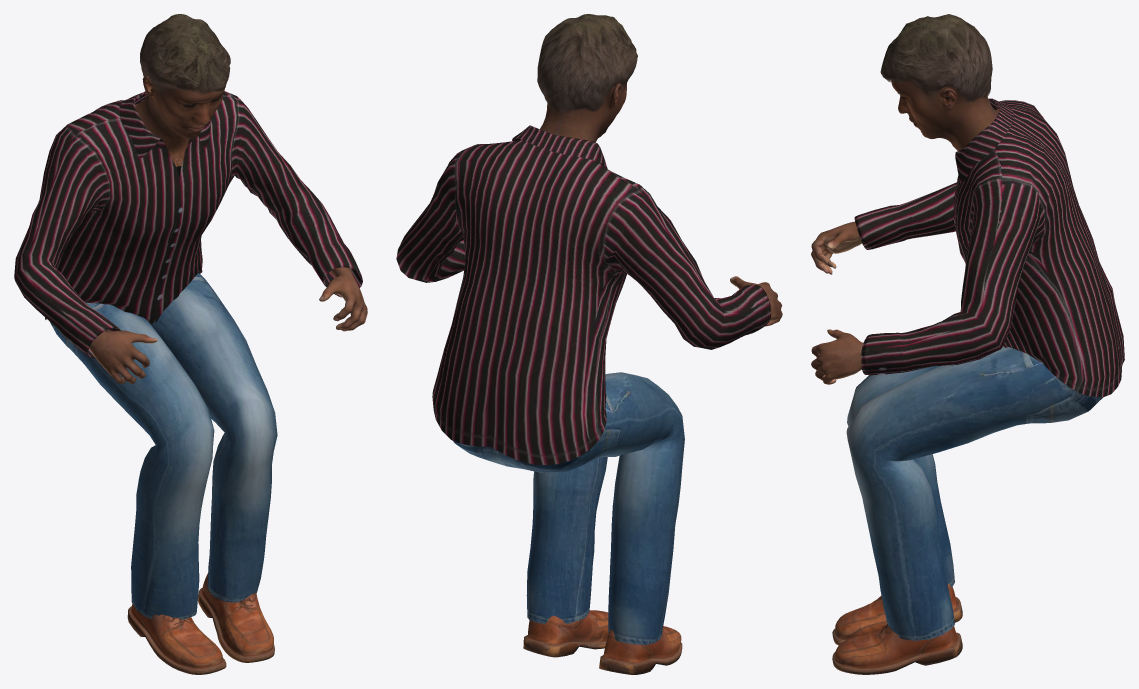
Rendered from uomo-02.glb.
3 views of the same model, side by side, from view 1: azimuth 30°, elevation 25°; view 2: azimuth 150°, elevation 25°; view 3: azimuth 270°, elevation 25° (orthographic). The views are drawn at different scales.
Visible parts, largest first — view 1: Human.male_casualsuit03, Human, Human.shoes01, Human.short02; view 2: Human.male_casualsuit03, Human.short02, Human.shoes01, Human; view 3: Human.male_casualsuit03, Human, Human.short02, Human.shoes01.
Part boxes in pixels (x1=…): Human.male_casualsuit03: x1=14, y1=91, x2=362, y2=619; Human: x1=89, y1=75, x2=367, y2=383; Human.shoes01: x1=127, y1=573, x2=274, y2=674; Human.short02: x1=140, y1=14, x2=230, y2=97; Human.male_casualsuit03: x1=396, y1=125, x2=770, y2=644; Human.short02: x1=537, y1=14, x2=637, y2=113; Human.shoes01: x1=523, y1=610, x2=682, y2=674; Human: x1=540, y1=83, x2=782, y2=326; Human.male_casualsuit03: x1=846, y1=98, x2=1124, y2=640; Human: x1=811, y1=80, x2=999, y2=384; Human.short02: x1=880, y1=14, x2=992, y2=103; Human.shoes01: x1=832, y1=584, x2=962, y2=674.
Bounding box in the file's own units: 0.7697 × 1.49 × 0.6675.
12 materials, 12 textured.
